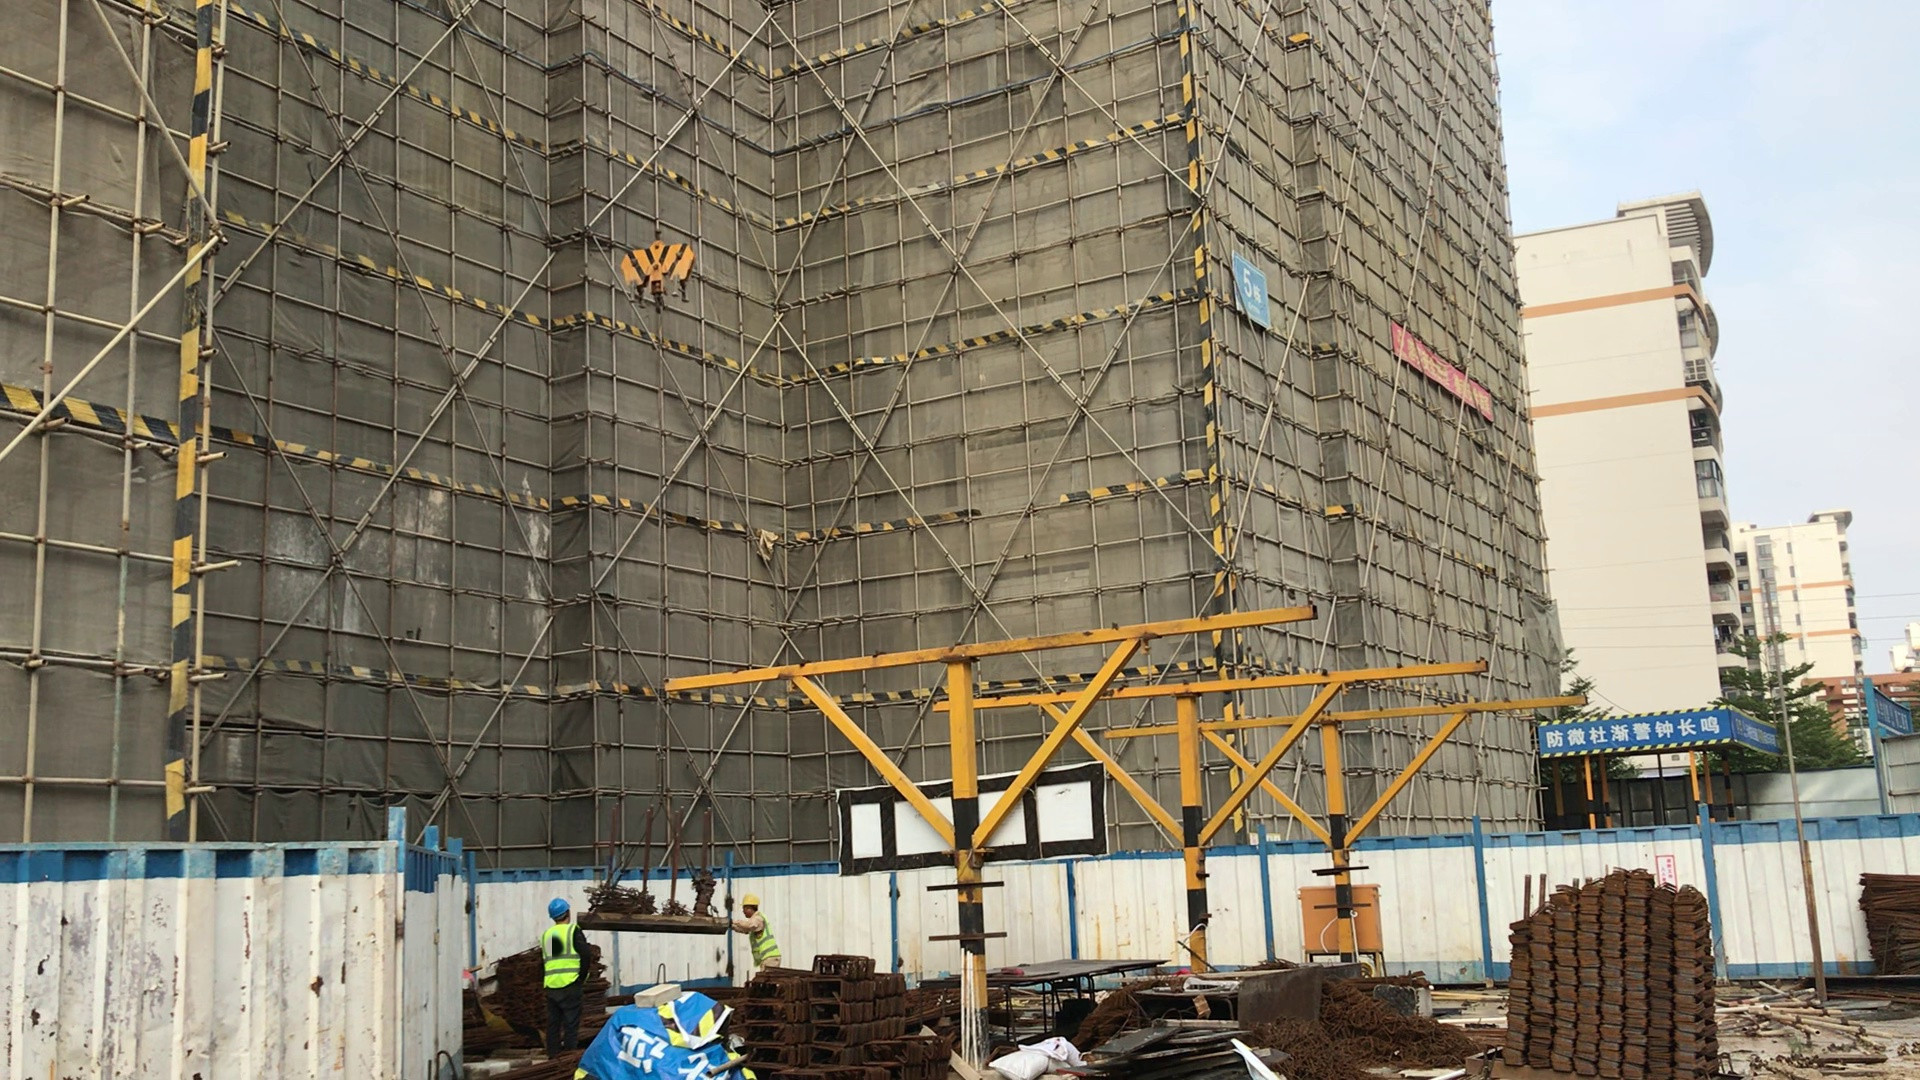ebox: (1294, 881, 1398, 956)
helmet: (545, 891, 580, 920), (737, 894, 767, 908)
hook: (569, 201, 779, 349)
person: (536, 892, 611, 1058), (732, 895, 797, 992)
slogan: (1387, 320, 1504, 432), (1535, 707, 1725, 759), (1727, 709, 1796, 762), (1230, 250, 1277, 328)
vest: (538, 920, 583, 992), (743, 916, 783, 968)
